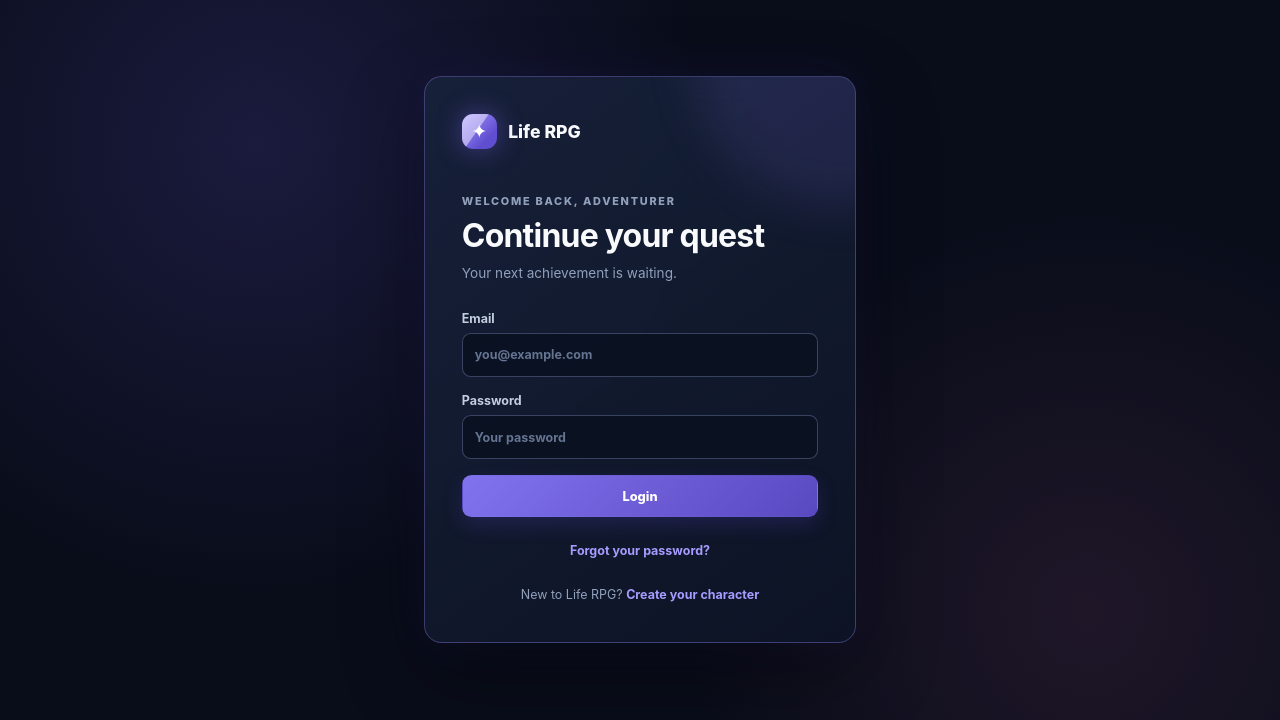
Login page › displays request errors
Type "hero@example.com" into the field labelled "Email" at (640,355), box 462,333 -> 818,377
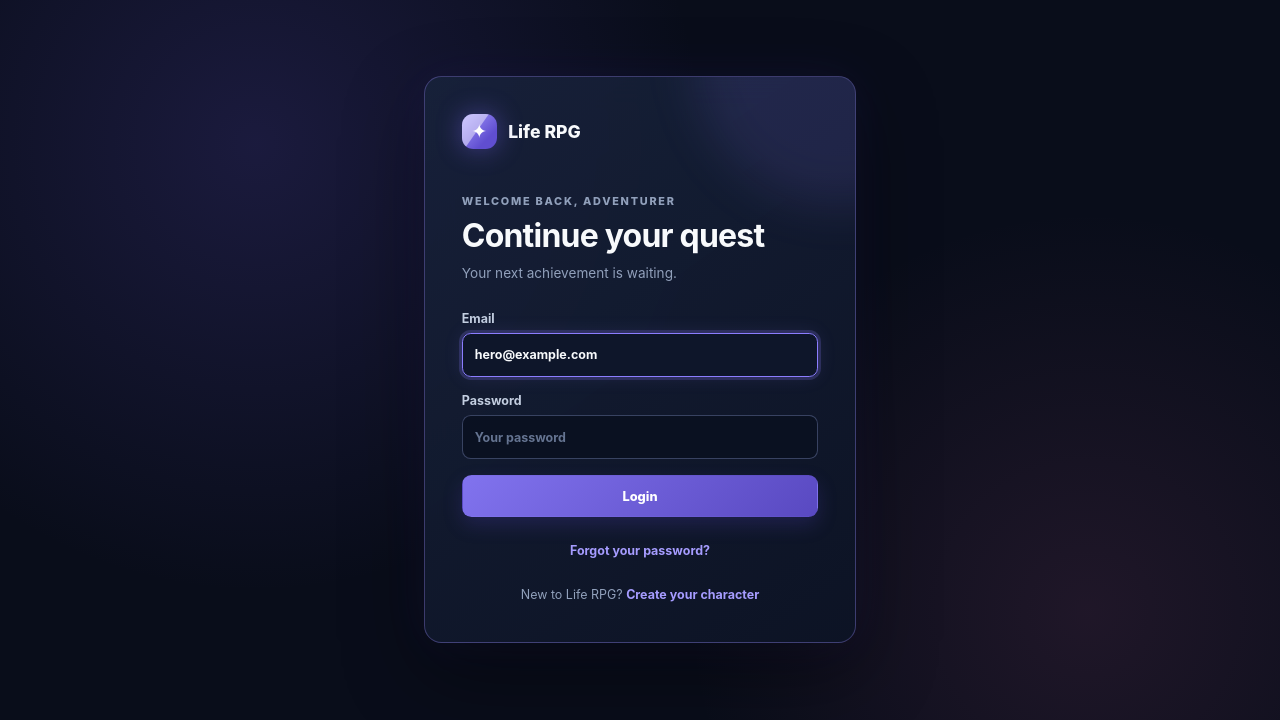
Type "wrong" into the password field labelled "Password" at (640,438), box 462,416 -> 818,460
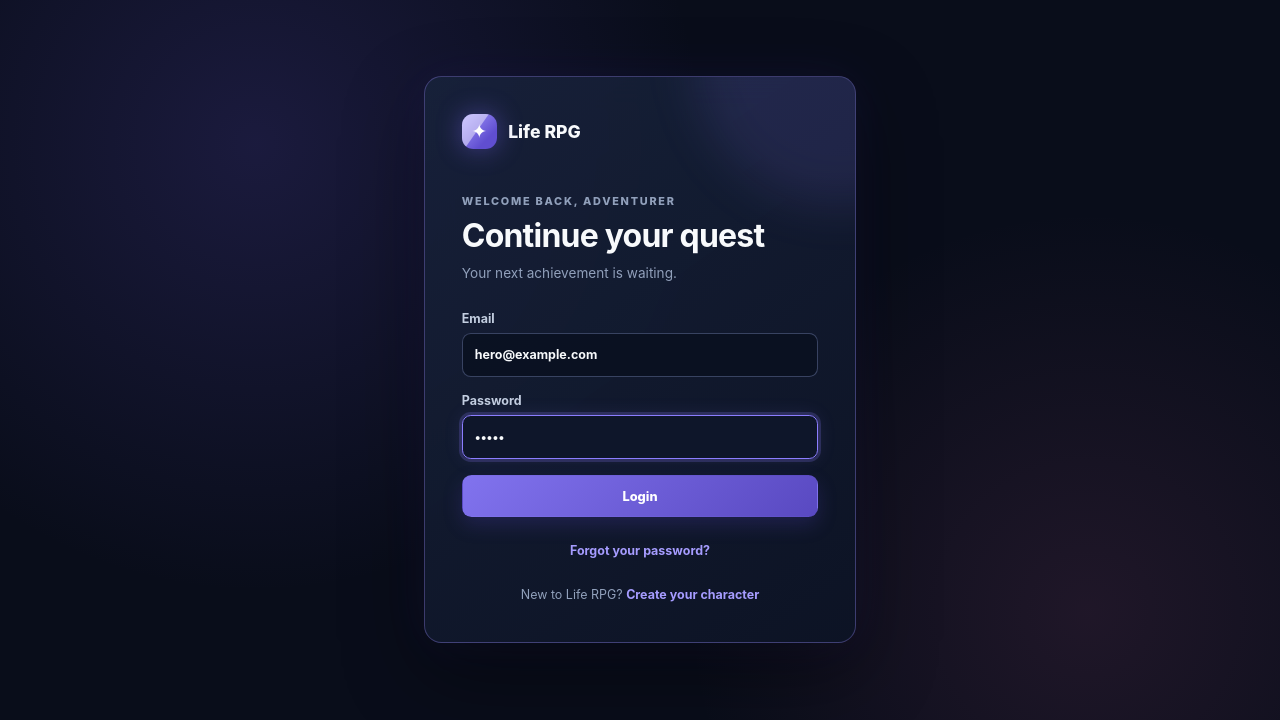
Click the button "Login" at (640,497), box 462,476 -> 818,518
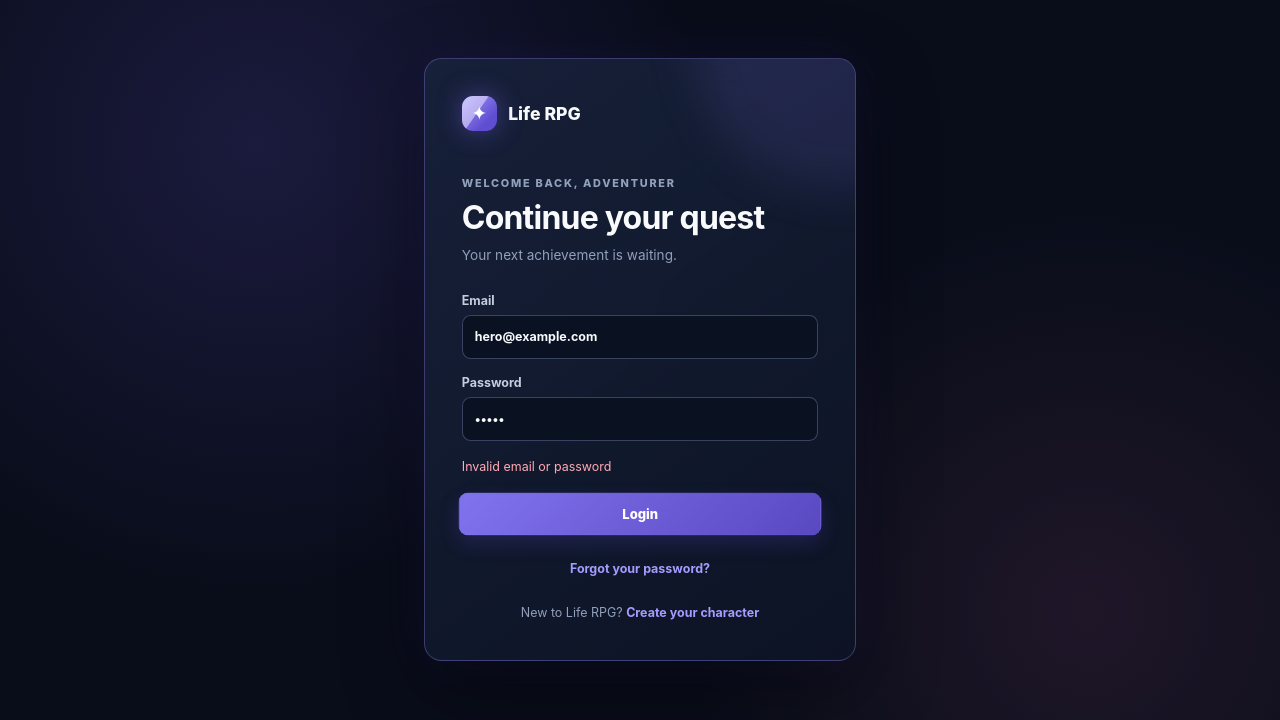
Check: the message reads "Invalid email or password", box 462,460 -> 611,474
